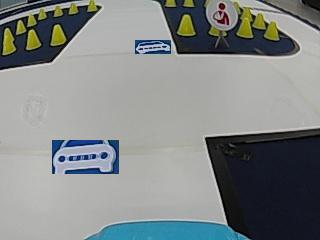cone: (177, 14, 196, 36), (237, 12, 253, 38), (2, 27, 16, 54), (26, 30, 42, 50), (51, 25, 66, 45), (264, 21, 279, 41), (254, 12, 266, 28), (86, 0, 97, 12), (16, 20, 26, 33), (53, 5, 63, 17), (27, 14, 37, 26), (68, 2, 78, 14), (37, 8, 47, 19), (182, 0, 195, 8), (164, 0, 176, 7)
patient: (206, 0, 237, 29)
